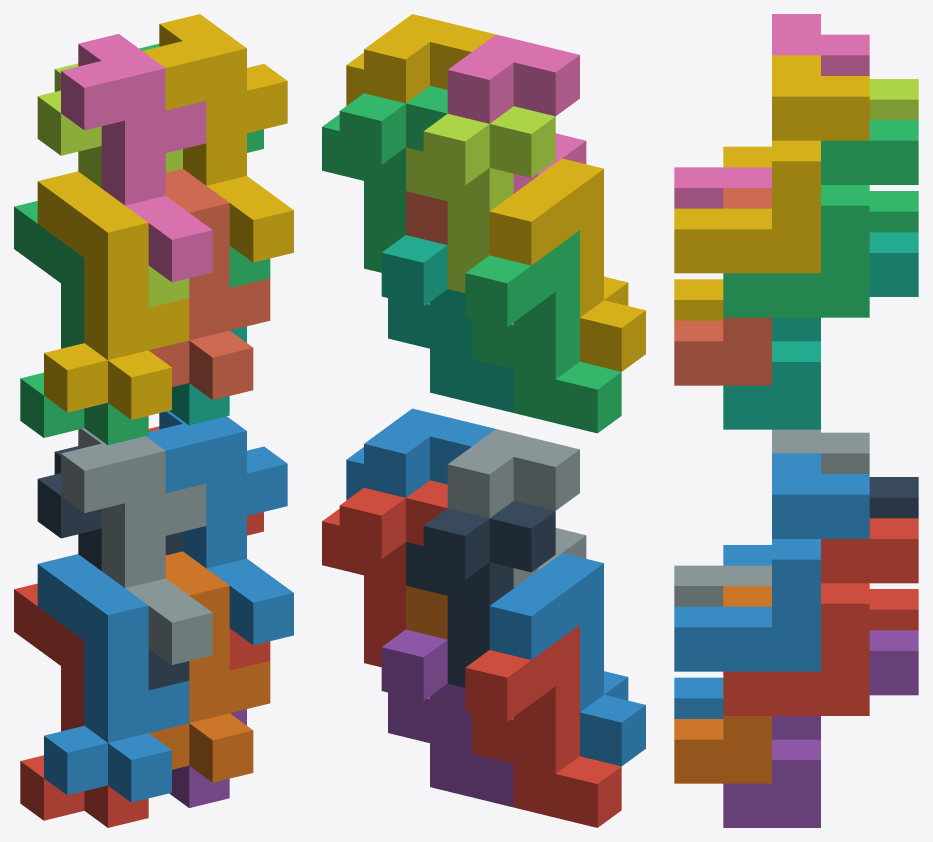
The model's file is tiling.obj.
The picture shows the model from 3 angles, left to right: view 1: azimuth 30°, elevation 25°; view 2: azimuth 150°, elevation 25°; view 3: azimuth 270°, elevation 25°; orthographic projection. The views are drawn at different scales.
Visible parts, largest first — view 1: copy_1_domain_4, copy_1_domain_2, copy_2_domain_4, copy_2_domain_2, copy_2_domain_8, copy_2_domain_6, copy_1_domain_6, copy_1_domain_8, copy_1_domain_1, copy_1_domain_3, copy_2_domain_3, copy_2_domain_1 (+4 smaller); view 2: copy_1_domain_1, copy_1_domain_3, copy_1_domain_4, copy_1_domain_2, copy_2_domain_3, copy_2_domain_1, copy_1_domain_5, copy_1_domain_7, copy_2_domain_5, copy_2_domain_7, copy_2_domain_2, copy_2_domain_4 (+4 smaller); view 3: copy_2_domain_6, copy_2_domain_8, copy_2_domain_5, copy_2_domain_7, copy_1_domain_5, copy_1_domain_7, copy_1_domain_8, copy_1_domain_6, copy_2_domain_4, copy_2_domain_2, copy_1_domain_4, copy_1_domain_2 (+4 smaller).
Boxes of the visible parts, bbox=[...] form: copy_1_domain_4: bbox=[37, 171, 189, 419]; copy_1_domain_2: bbox=[37, 554, 189, 802]; copy_2_domain_4: bbox=[61, 34, 212, 282]; copy_2_domain_2: bbox=[61, 428, 212, 664]; copy_2_domain_8: bbox=[143, 14, 293, 262]; copy_2_domain_6: bbox=[146, 411, 293, 645]; copy_1_domain_6: bbox=[149, 551, 270, 782]; copy_1_domain_8: bbox=[149, 168, 270, 399]; copy_1_domain_1: bbox=[14, 583, 148, 827]; copy_1_domain_3: bbox=[14, 201, 148, 445]; copy_2_domain_3: bbox=[37, 63, 189, 307]; copy_2_domain_1: bbox=[37, 446, 189, 690]; copy_1_domain_1: bbox=[465, 625, 621, 827]; copy_1_domain_3: bbox=[465, 230, 621, 433]; copy_1_domain_4: bbox=[489, 158, 645, 371]; copy_1_domain_2: bbox=[489, 553, 645, 766]; copy_2_domain_3: bbox=[406, 106, 555, 292]; copy_2_domain_1: bbox=[406, 501, 555, 687]; copy_1_domain_5: bbox=[381, 629, 513, 807]; copy_1_domain_7: bbox=[381, 235, 513, 412]; copy_2_domain_5: bbox=[322, 480, 447, 667]; copy_2_domain_7: bbox=[322, 86, 447, 272]; copy_2_domain_2: bbox=[447, 429, 586, 587]; copy_2_domain_4: bbox=[447, 34, 586, 193]; copy_2_domain_6: bbox=[674, 453, 869, 671]; copy_2_domain_8: bbox=[674, 55, 869, 273]; copy_2_domain_5: bbox=[723, 518, 918, 715]; copy_2_domain_7: bbox=[723, 120, 918, 317]; copy_1_domain_5: bbox=[723, 630, 918, 827]; copy_1_domain_7: bbox=[723, 232, 918, 429]; copy_1_domain_8: bbox=[674, 188, 771, 385]; copy_1_domain_6: bbox=[674, 586, 771, 783]; copy_2_domain_4: bbox=[674, 14, 869, 208]; copy_2_domain_2: bbox=[674, 429, 869, 606]; copy_1_domain_4: bbox=[674, 146, 771, 320]; copy_1_domain_2: bbox=[674, 545, 771, 718].
Size of the model in its own units: 6 by 17 by 5.
